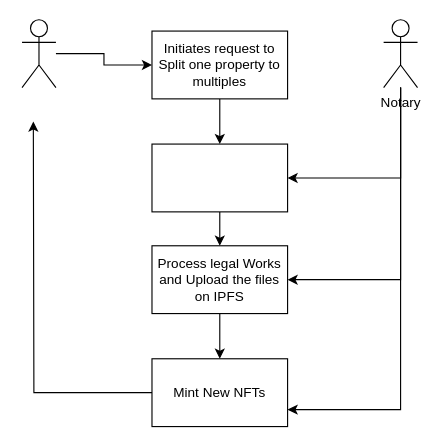
Image size: 440x446. Some labels were removed from this diagram. The shapes that lost their labels are listed below. From the top down, each one's box as (x1, y1, x2, y2) in pixels, then its label:
(21, 19, 56, 88): Owner
(151, 143, 288, 212): Process request and Burn NFT
